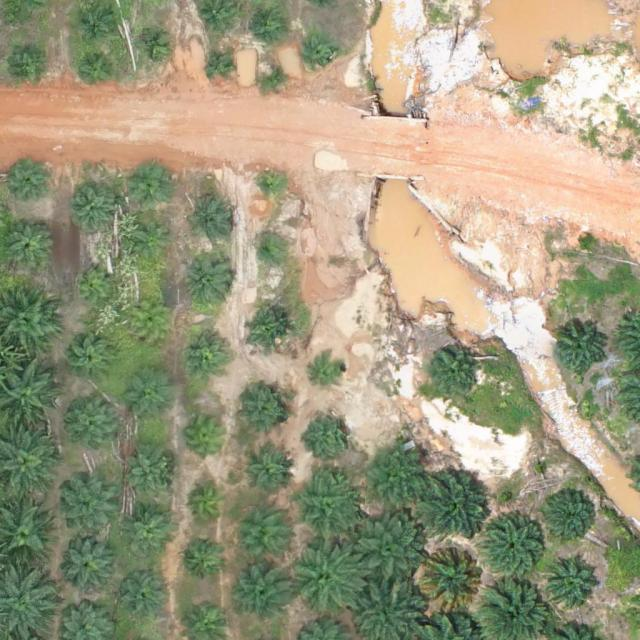Healthy: (289, 536, 367, 615), (416, 464, 494, 543), (346, 514, 424, 592), (362, 441, 432, 512), (480, 514, 550, 585), (293, 474, 363, 544), (230, 509, 292, 571), (235, 565, 290, 620), (120, 450, 175, 505), (121, 508, 176, 563), (115, 571, 170, 626), (63, 481, 118, 536), (61, 536, 116, 591), (2, 218, 57, 273), (553, 323, 608, 378), (66, 399, 120, 454), (68, 182, 122, 237), (548, 554, 602, 609), (545, 489, 599, 544), (187, 256, 234, 304)
Small: (239, 387, 294, 442), (427, 349, 482, 404), (241, 448, 295, 503), (187, 195, 234, 243), (6, 161, 53, 209), (244, 308, 291, 356), (180, 536, 227, 584), (184, 481, 231, 529), (307, 410, 354, 458), (67, 336, 114, 383), (127, 376, 174, 423), (182, 330, 229, 377), (186, 413, 233, 460), (132, 164, 172, 204), (79, 2, 118, 42), (7, 40, 46, 80), (136, 224, 175, 264), (136, 27, 175, 67), (252, 5, 291, 45), (311, 353, 350, 393), (73, 266, 112, 305), (77, 51, 116, 90), (206, 49, 237, 81), (260, 62, 291, 94), (305, 41, 336, 72), (256, 171, 287, 202), (253, 238, 284, 269)
Yellow: (417, 545, 487, 615), (130, 303, 169, 342)
